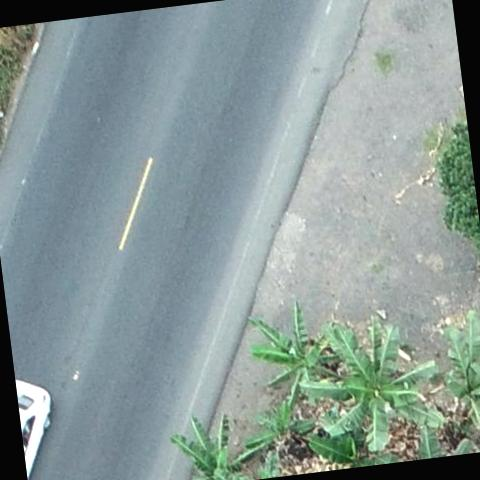Banana-plant: (289, 312, 454, 461), (243, 294, 351, 418), (166, 401, 276, 480), (236, 386, 324, 476), (427, 305, 480, 435)
